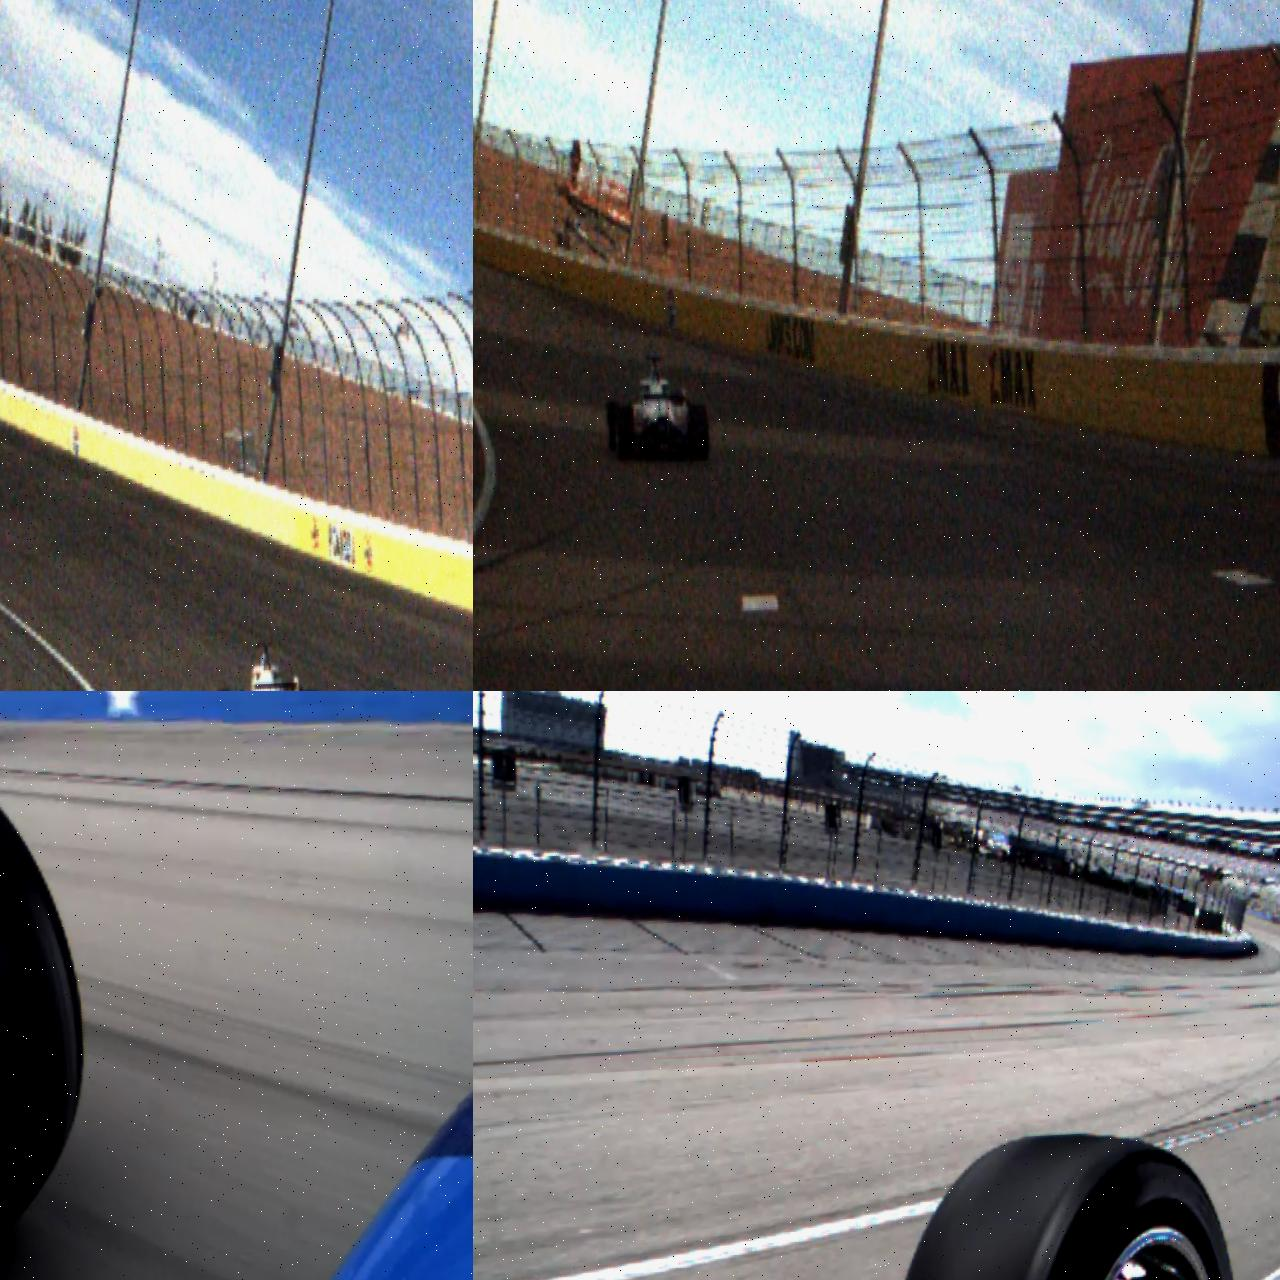AV: (602, 352, 710, 465), (212, 638, 324, 692)
Wheel: (874, 1124, 1255, 1280), (0, 745, 98, 1280), (613, 404, 635, 459), (689, 403, 710, 461), (606, 399, 622, 452)
